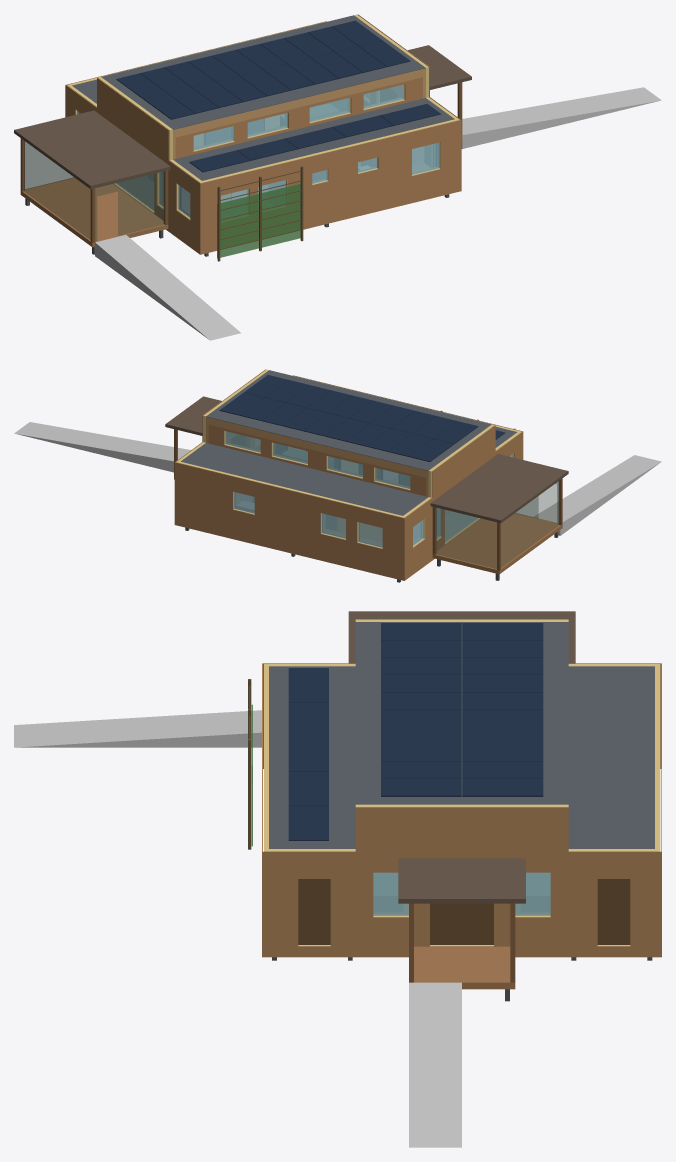
The model's file is lodge.obj.
The picture shows the model from 3 angles, top to bottom: view 1: azimuth 30°, elevation 25°; view 2: azimuth 150°, elevation 25°; view 3: azimuth 270°, elevation 25°; orthographic projection. The views are drawn at different scales.
Parts seen in each view (by area): view 1: south_rainscreen, hall_pv, porch_west-porch_roof, west_rainscreen, porch_west-porch_deck, hall_roof_membrane, ramp_porch-ramp, ramp_entry-ramp, trellis_planting, south_roof-membrane, south_pv, porch_west-porch_screen_west (+17 smaller); view 2: north_rainscreen, hall_pv, north_roof-membrane, porch_west-porch_roof, west_rainscreen, porch_west-porch_deck, hall_roof_membrane, ramp_entry-ramp, ramp_porch-ramp, porch_west-porch_screen_north, porch_west-porch_screen_west, hall_clerestory_north_rainscreen (+17 smaller); view 3: east_rainscreen, hall_pv, north_roof-membrane, hall_roof_membrane, south_roof-membrane, ramp_entry-ramp, ramp_porch-ramp, south_pv, porch_entry-deck_roof, porch_entry-deck_deck, opening_HE2, porch_west-porch_roof (+11 smaller).
Boxes of the visible parts, left/top/right/bottom form: south_rainscreen: left=200, top=120, right=461, bottom=254; hall_pv: left=116, top=20, right=410, bottom=119; porch_west-porch_roof: left=14, top=110, right=170, bottom=189; west_rainscreen: left=65, top=78, right=200, bottom=254; porch_west-porch_deck: left=20, top=177, right=168, bottom=247; hall_roof_membrane: left=101, top=15, right=425, bottom=129; ramp_porch-ramp: left=95, top=235, right=241, bottom=340; ramp_entry-ramp: left=461, top=87, right=661, bottom=148; trellis_planting: left=217, top=183, right=300, bottom=258; south_roof-membrane: left=173, top=98, right=454, bottom=180; south_pv: left=189, top=103, right=440, bottom=172; porch_west-porch_screen_west: left=24, top=141, right=90, bottom=239; north_rainscreen: left=174, top=462, right=404, bottom=580; hall_pv: left=219, top=375, right=478, bottom=461; north_roof-membrane: left=181, top=443, right=428, bottom=515; porch_west-porch_roof: left=430, top=454, right=568, bottom=523; west_rainscreen: left=404, top=425, right=522, bottom=580; porch_west-porch_deck: left=432, top=513, right=562, bottom=574; hall_roof_membrane: left=206, top=370, right=491, bottom=470; ramp_entry-ramp: left=14, top=422, right=190, bottom=472; ramp_porch-ramp: left=534, top=455, right=661, bottom=535; porch_west-porch_screen_north: left=436, top=508, right=496, bottom=568; porch_west-porch_screen_west: left=501, top=480, right=559, bottom=567; hall_clerestory_north_rainscreen: left=208, top=425, right=425, bottom=496; east_rainscreen: left=263, top=807, right=661, bottom=957; hall_pv: left=381, top=623, right=543, bottom=796; north_roof-membrane: left=568, top=666, right=654, bottom=848; hall_roof_membrane: left=355, top=622, right=568, bottom=804; south_roof-membrane: left=269, top=666, right=355, bottom=848; ramp_entry-ramp: left=409, top=982, right=461, bottom=1147; ramp_porch-ramp: left=14, top=710, right=261, bottom=747; south_pv: left=288, top=668, right=328, bottom=840; porch_entry-deck_roof: left=398, top=858, right=525, bottom=903; porch_entry-deck_deck: left=414, top=946, right=515, bottom=989; opening_HE2: left=430, top=903, right=493, bottom=944; porch_west-porch_roof: left=348, top=611, right=575, bottom=663.
Size of the model in its own units: 28.52 by 5.08 by 18.27.
